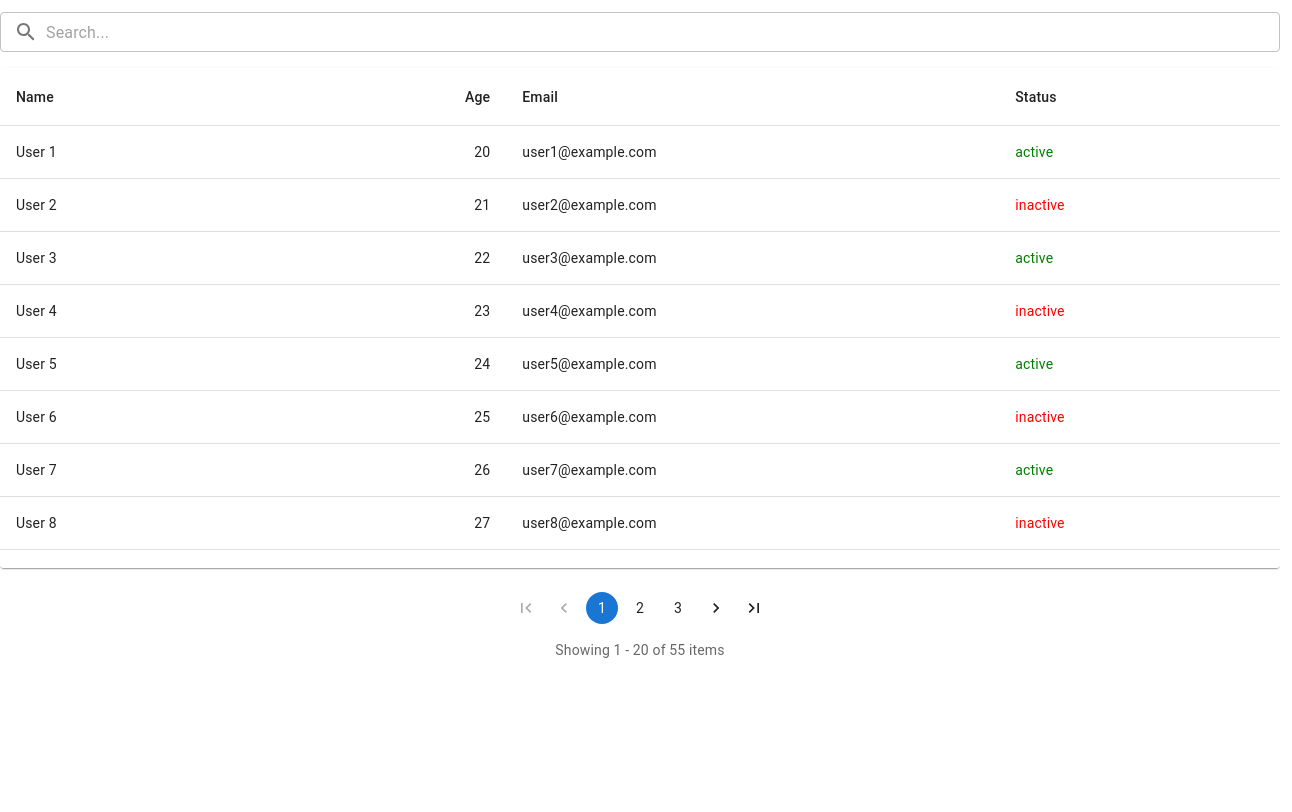
it: ModernTable Component › Pagination (Requirement 43.6) › should update pagination info correctly
Expected: the text "Showing 1 - 20 of 55 items" is shown, x1=555 y1=640 x2=725 y2=660
// Go to last page
Click the button named "Go to page 3": (678, 608) x1=662 y1=592 x2=694 y2=624
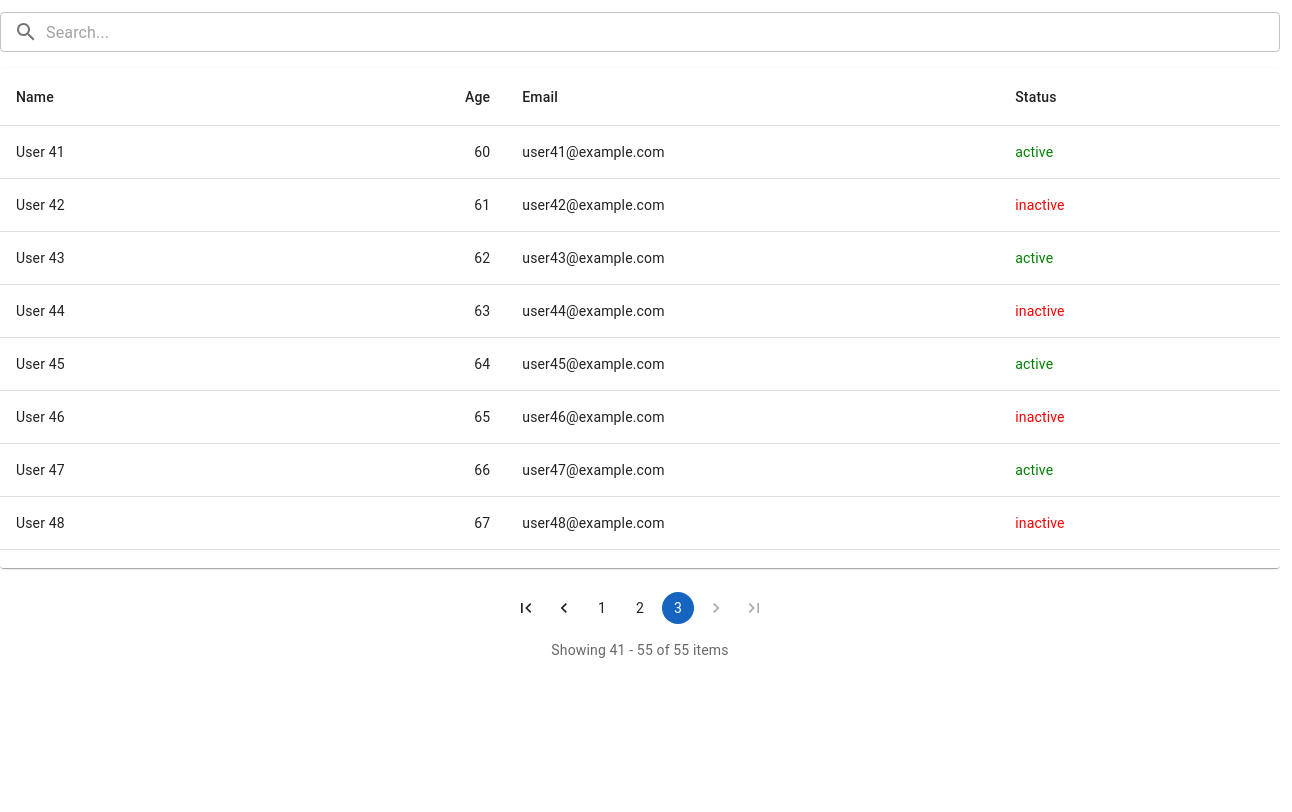
Expected: the text "Showing 41 - 55 of 55 items" is shown, x1=551 y1=640 x2=729 y2=660
